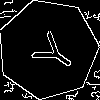Y: (23, 24, 80, 78)
